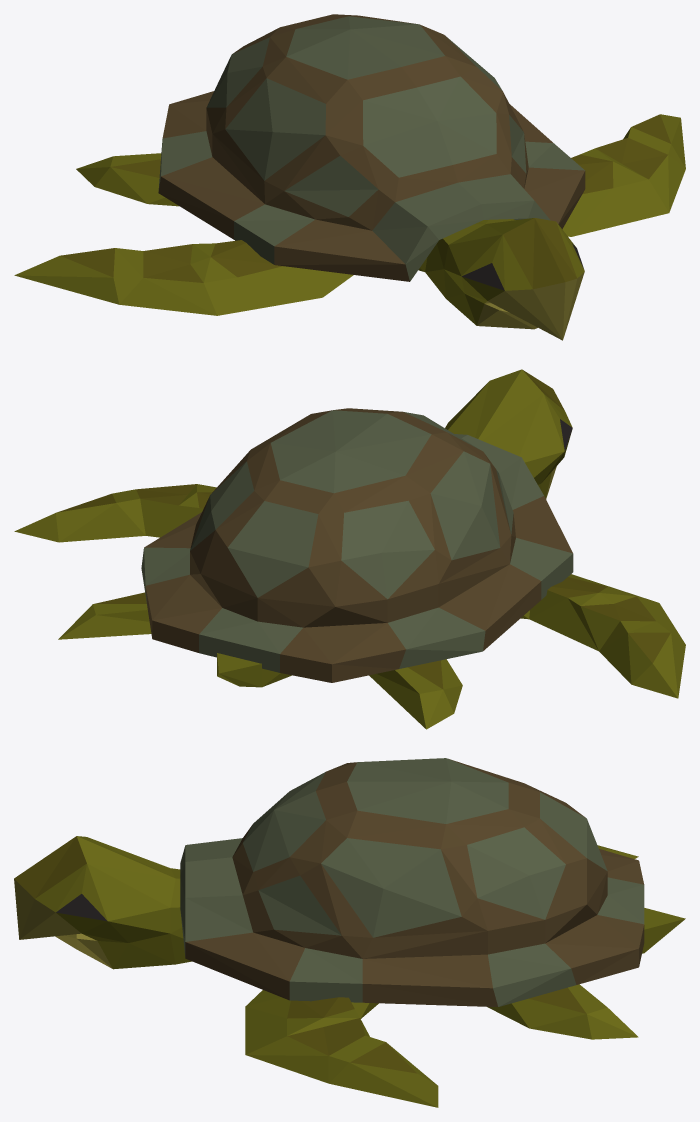
3 views of the same model, one above another, from view 1: azimuth 30°, elevation 25°; view 2: azimuth 150°, elevation 25°; view 3: azimuth 270°, elevation 25° (orthographic).
Bounding box in the file's own units: 149 × 40 × 129.
2 materials, 2 textured.
